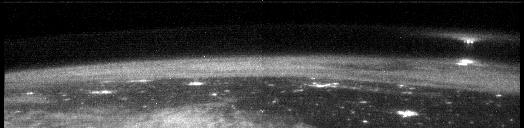negative: (455, 35, 482, 46)
